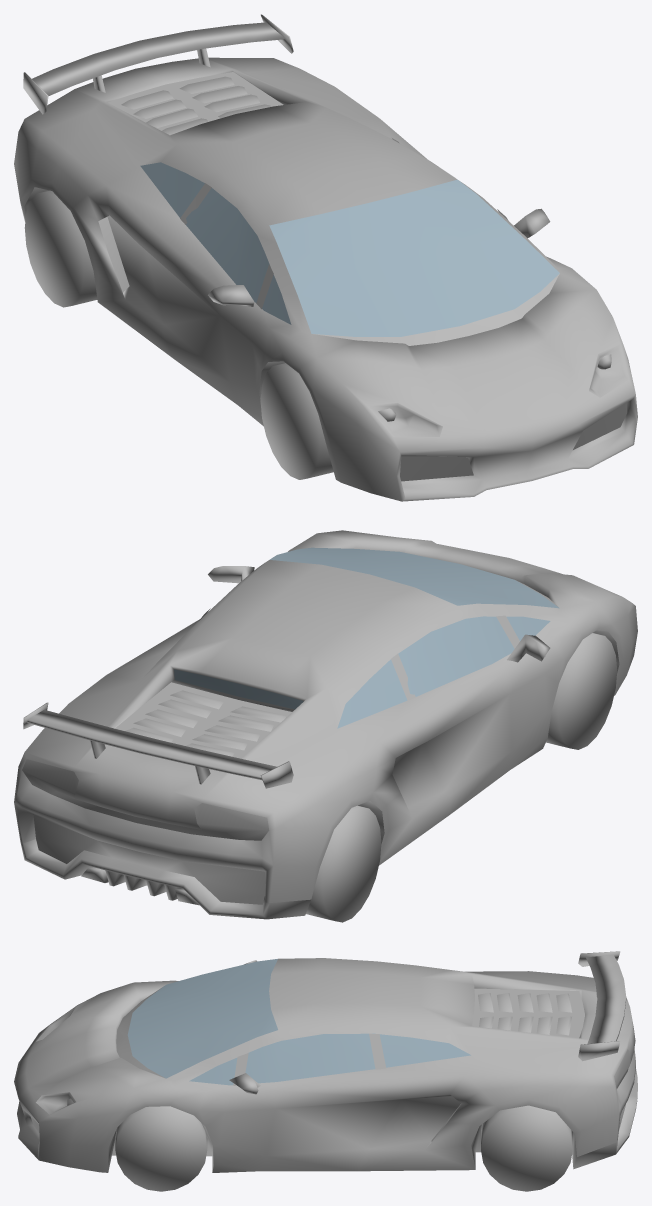
The model's file is Car_04_LOD1.FBX.
3 views of the same model, one above another, from view 1: azimuth 30°, elevation 25°; view 2: azimuth 150°, elevation 25°; view 3: azimuth 270°, elevation 25° (orthographic). The views are drawn at different scales.
Parts seen in each view (by area): view 1: Body_4_LOD1, Glass_4_LOD1, Matte_4_LOD1, Wheel_Back_R_LOD1, Wheel_R_LOD1; view 2: Body_4_LOD1, Matte_4_LOD1, Glass_4_LOD1, Wheel_Back_R_LOD1, Wheel_R_LOD1, Taillights_4_LOD1; view 3: Body_4_LOD1, Glass_4_LOD1, Matte_4_LOD1, Wheel_Back_L_LOD1, Wheel_L_LOD1.
Boxes of the visible parts, <box> form: Body_4_LOD1: <box>14,57,637,501</box>; Glass_4_LOD1: <box>140,162,559,336</box>; Matte_4_LOD1: <box>21,14,628,481</box>; Wheel_Back_R_LOD1: <box>24,190,97,307</box>; Wheel_R_LOD1: <box>260,363,333,479</box>; Body_4_LOD1: <box>14,530,637,902</box>; Matte_4_LOD1: <box>20,566,619,919</box>; Glass_4_LOD1: <box>174,547,559,728</box>; Wheel_Back_R_LOD1: <box>306,805,381,922</box>; Wheel_R_LOD1: <box>546,633,617,749</box>; Taillights_4_LOD1: <box>22,759,269,840</box>; Body_4_LOD1: <box>14,958,635,1172</box>; Glass_4_LOD1: <box>127,959,470,1085</box>; Matte_4_LOD1: <box>31,951,637,1171</box>; Wheel_Back_L_LOD1: <box>481,1105,572,1191</box>; Wheel_L_LOD1: <box>115,1106,207,1191</box>.
Size of the model in its own units: 2.12 by 1.16 by 4.39.
